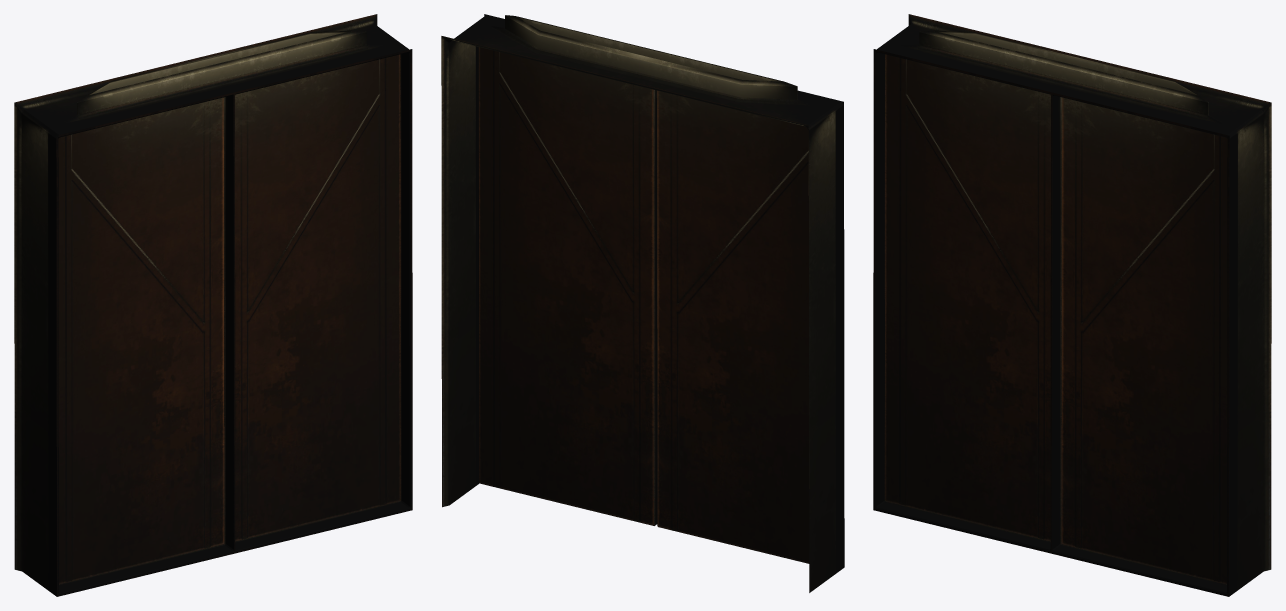
3 views of the same model, side by side, from view 1: azimuth 30°, elevation 25°; view 2: azimuth 150°, elevation 25°; view 3: azimuth 330°, elevation 25° (orthographic).
Visible parts, largest first — view 1: Door_4; view 2: Door_4; view 3: Door_4.
Boxes of the visible parts, bbox=[...] form: Door_4: bbox=[14, 14, 412, 596]; Door_4: bbox=[441, 14, 844, 592]; Door_4: bbox=[873, 14, 1271, 596].
Size of the model in its own units: 1.81 by 2.28 by 0.3372.
Materials: 1 (1 with a texture image).
